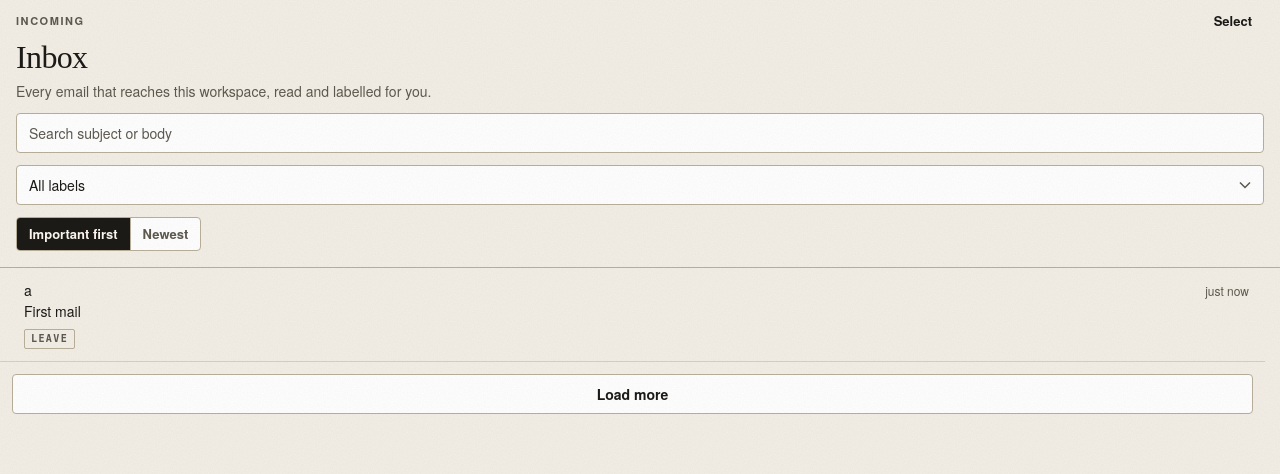
MessageList › loads the next page using next_cursor
expect the text "First mail" is shown: met, box [24,302,81,321]
Click the button "Load more".
click(632, 394)  # box [12,374,1253,414]
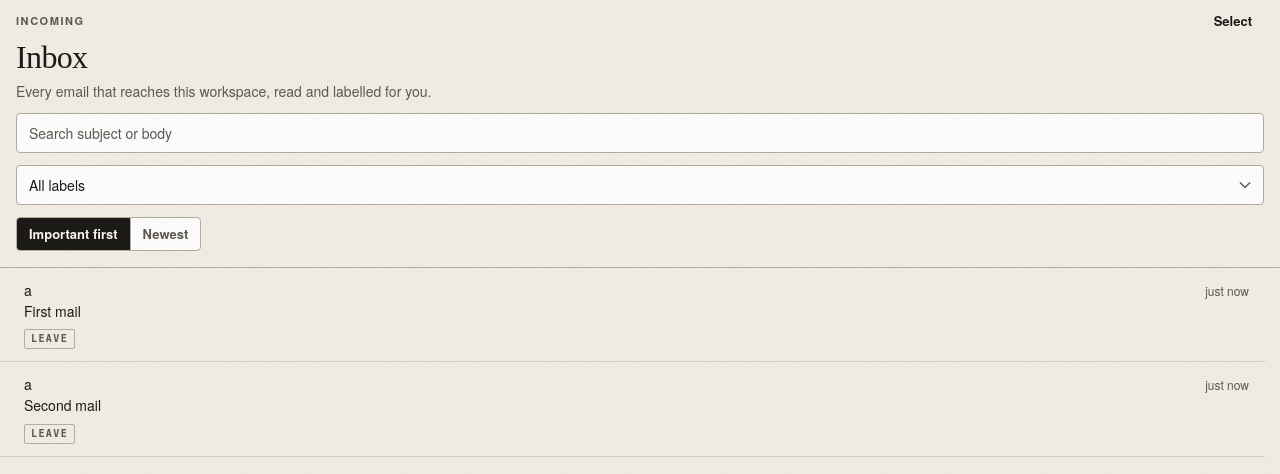
expect the text "Second mail" is shown: met, box [24,396,101,415]
expect the button "Load more" is gone: met
